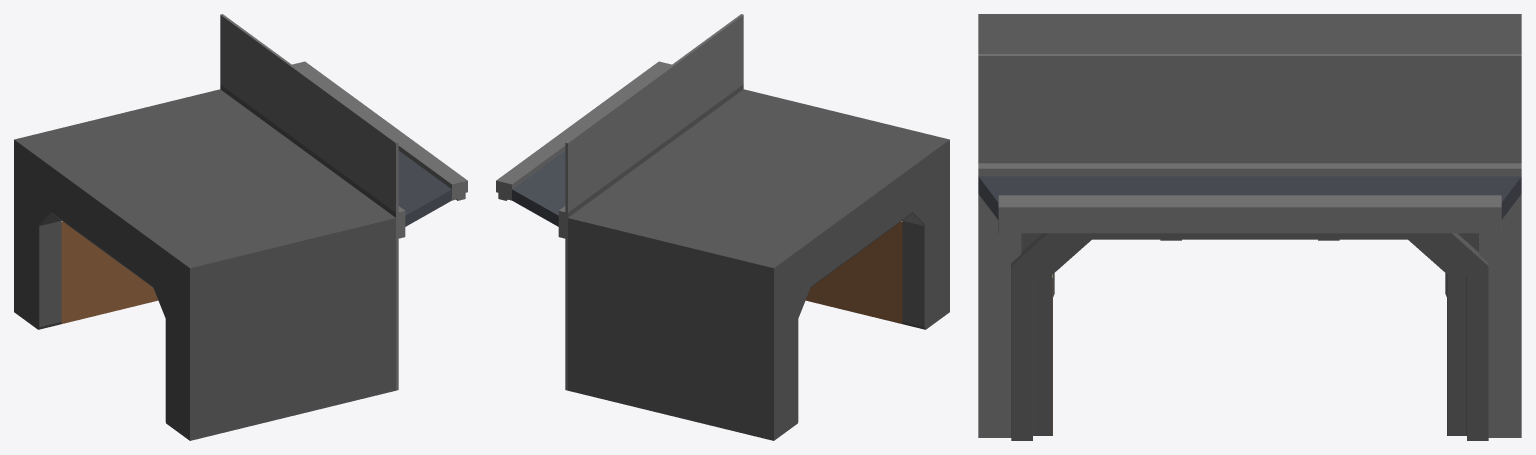
File: SM_ShortTunnelEmpty.fbx
3 renders of one model, left to right at view 1: azimuth 30°, elevation 25°; view 2: azimuth 150°, elevation 25°; view 3: azimuth 270°, elevation 25°, orthographic. The views are drawn at different scales.
Parts seen in each view (by area): view 1: Cube.031; view 2: Cube.031; view 3: Cube.031.
Boxes of the visible parts, left/top/right/bottom form: Cube.031: left=14, top=14, right=467, bottom=440; Cube.031: left=496, top=14, right=949, bottom=440; Cube.031: left=978, top=14, right=1521, bottom=440.
Size of the model in its own units: 941 by 782 by 1008.
